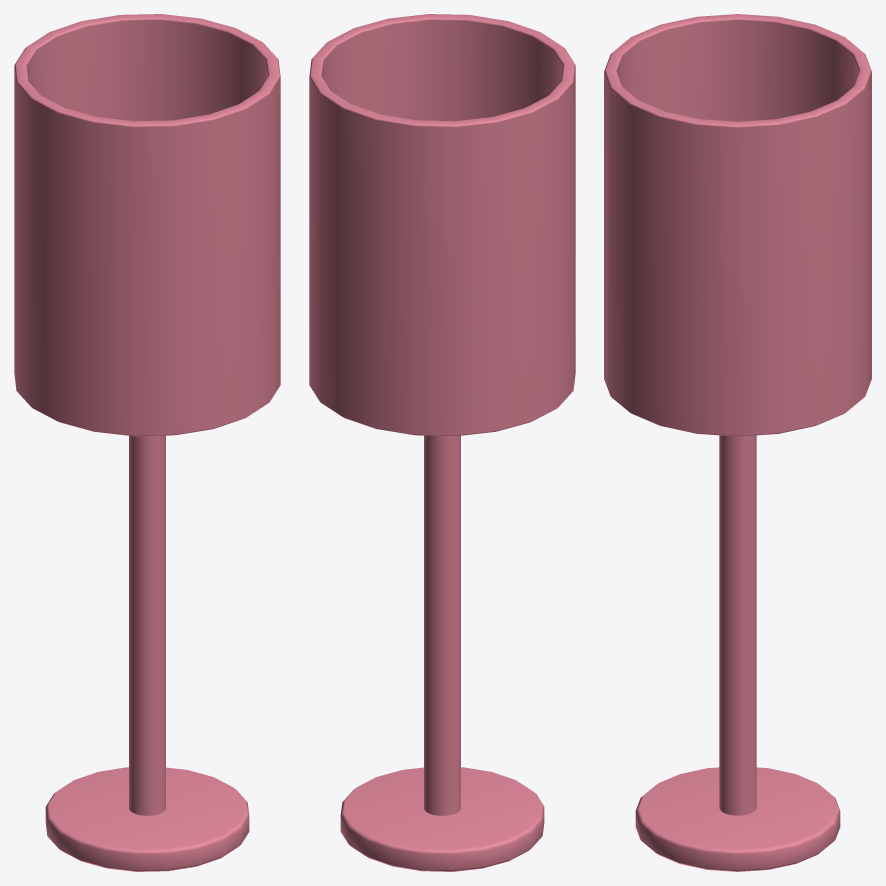
File: Stand_2.glb
3 views of the same model, side by side, from view 1: azimuth 30°, elevation 25°; view 2: azimuth 150°, elevation 25°; view 3: azimuth 270°, elevation 25° (orthographic).
Parts seen in each view (by area): view 1: Lamp_1; view 2: Lamp_1; view 3: Lamp_1.
Part boxes in pixels (x1,y1,x2,y2): Lamp_1: [14, 14, 280, 871]; Lamp_1: [309, 14, 575, 871]; Lamp_1: [604, 14, 871, 871].
Size of the model in its own units: 0.5951 by 1.87 by 0.5951.
2 materials, 1 textured.
